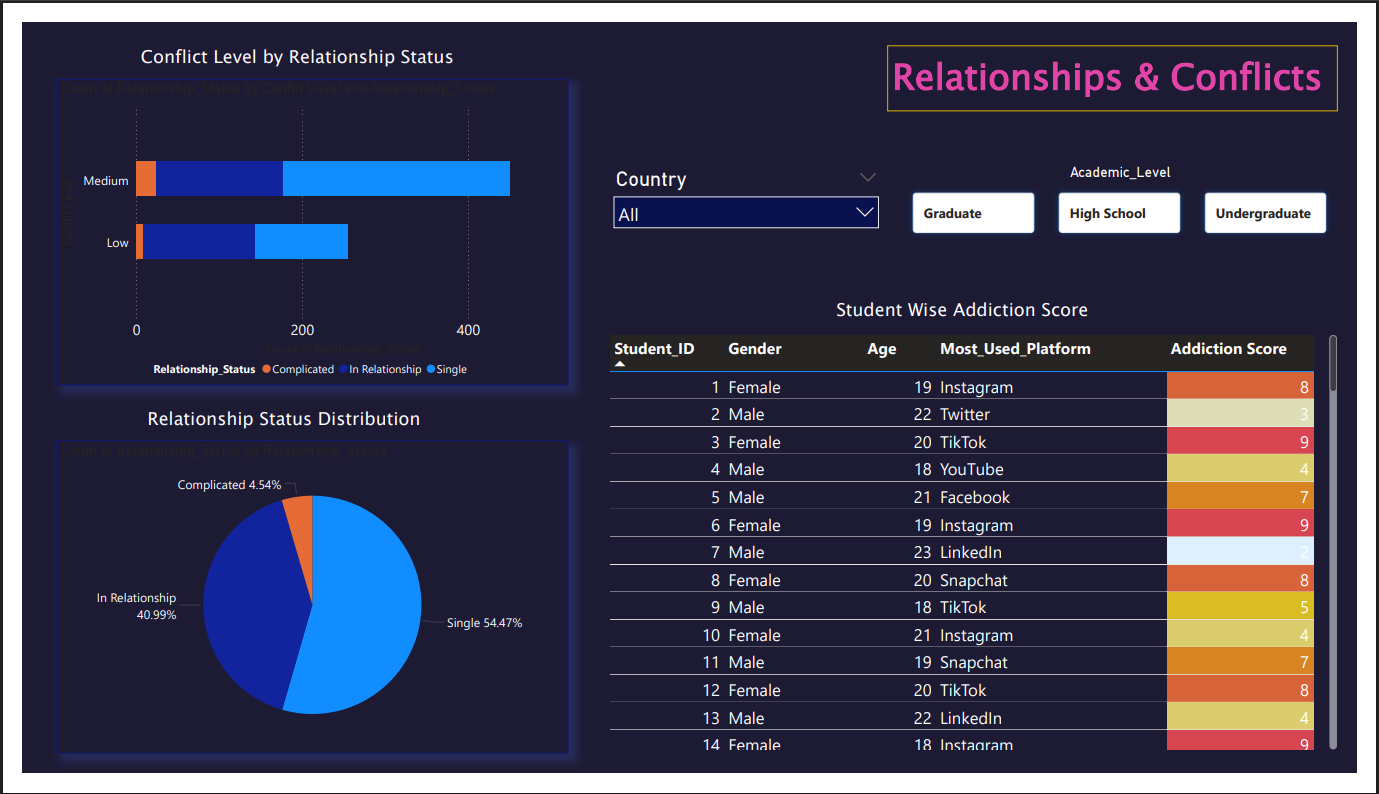

The page's visual inventory and layout, read from the dashboard file:
{"tool":"powerbi","page":{"name":"Relationships and Conflicts","canvas":[1600,900],"ordinal":4},"visuals":[{"type":"barChart","fields":{"Category":["Student Details.Conflit Level"],"Series":["Student Details.Relationship_Status"],"Y":["CountNonNull(Student Details.Relationship_Status)"]},"box":[40.9,67.7,614,368.4],"z":0},{"type":"tableEx","fields":{"Values":["Student Details.Student_ID","Student Details.Gender","Sum(Student Details.Age)","Platform Details.Most_Used_Platform","Sum(Student Details.Addicted_Score)"]},"box":[698.7,371.2,882.2,505.3],"z":1000},{"type":"pieChart","fields":{"Category":["Student Details.Relationship_Status"],"Y":["CountNonNull(Student Details.Relationship_Status)"]},"box":[40.9,502.5,614,374],"z":2000},{"type":"advancedSlicerVisual","fields":{"Values":["Student Details.Academic_Level"]},"box":[1051.5,170.8,529.3,100.2],"z":3000},{"type":"slicer","fields":{"Values":["Student Details.Country"]},"box":[698.7,170.8,338.7,100.2],"z":4000},{"type":"textbox","box":[1037.4,28.2,539.2,79],"z":5000},{"type":"textbox","box":[125.6,21.2,407.9,46.6],"z":6000},{"type":"textbox","box":[110.1,455.9,407.9,46.6],"z":7000},{"type":"textbox","box":[923.1,324.6,407.9,46.6],"z":8000}]}

Visuals, with their boxes on the page's 1600x900 design canvas (x1, y1, x2, y2). These are canvas units, not pixel positions in the 1379x794 screenshot, which may show the page scaled, cropped or inside an application window:
barChart - Student Details.Conflit Level x Student Details.Relationship_Status: locate(41, 68, 655, 436)
tableEx - Student Details.Student_ID x Student Details.Gender: locate(699, 371, 1581, 876)
pieChart - Student Details.Relationship_Status x CountNonNull(Student Details.Relationship_Status): locate(41, 502, 655, 876)
advancedSlicerVisual - Student Details.Academic_Level: locate(1052, 171, 1581, 271)
slicer - Student Details.Country: locate(699, 171, 1037, 271)
textbox: locate(1037, 28, 1577, 107)
textbox: locate(126, 21, 534, 68)
textbox: locate(110, 456, 518, 502)
textbox: locate(923, 325, 1331, 371)
